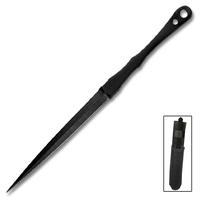knife: (5, 6, 191, 195)
